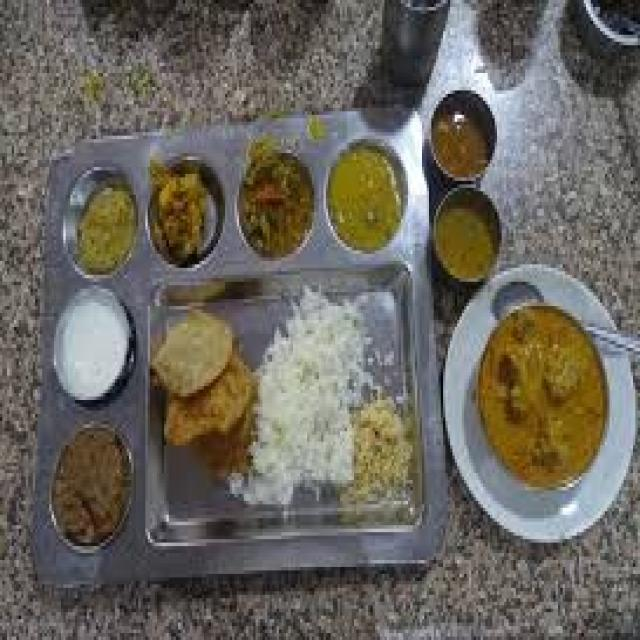curd: (48, 292, 142, 405)
dal: (468, 305, 615, 484)
papad: (149, 303, 257, 458)
rice: (253, 300, 371, 498)
veg-fry: (344, 391, 417, 508)
